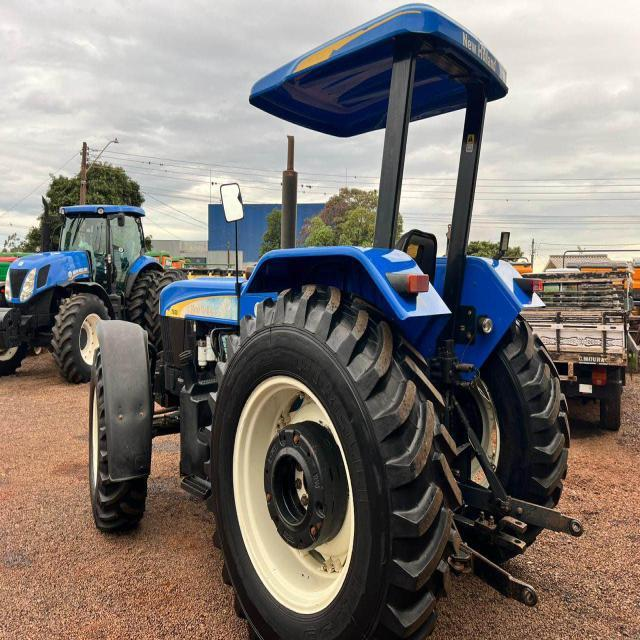Tratores - v5 YOLO V8L 2024-11-13: (90, 0, 574, 639), (2, 199, 156, 377)
